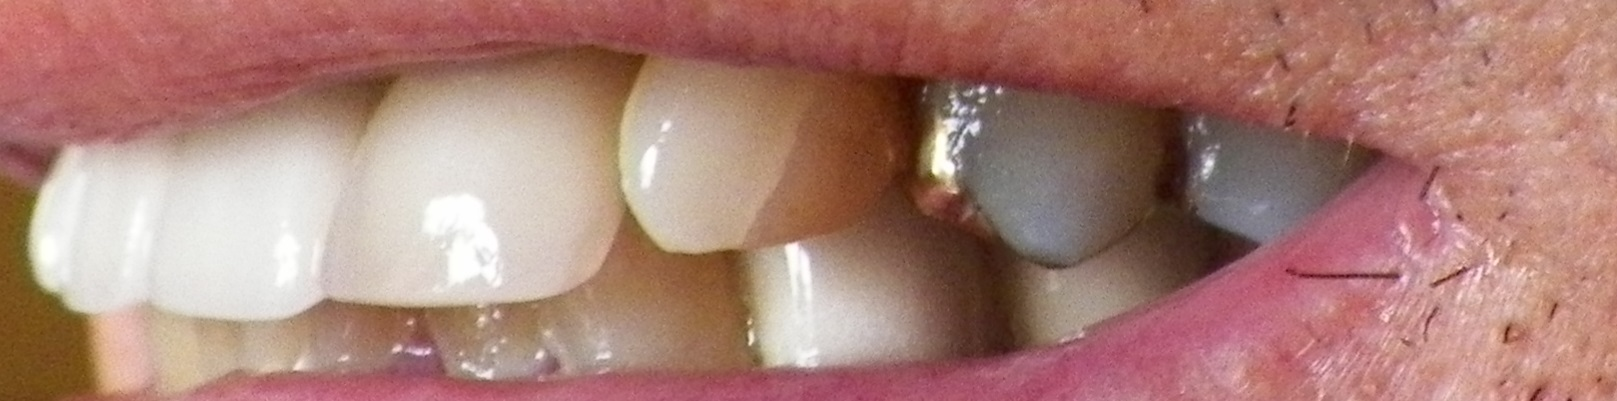boca: (41, 60, 1351, 385)
